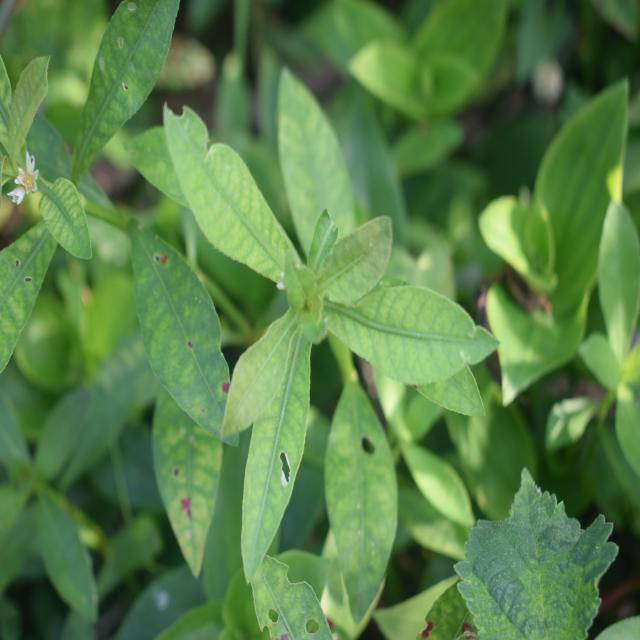Alligatorweed: (168, 90, 498, 538), (0, 24, 228, 456)
